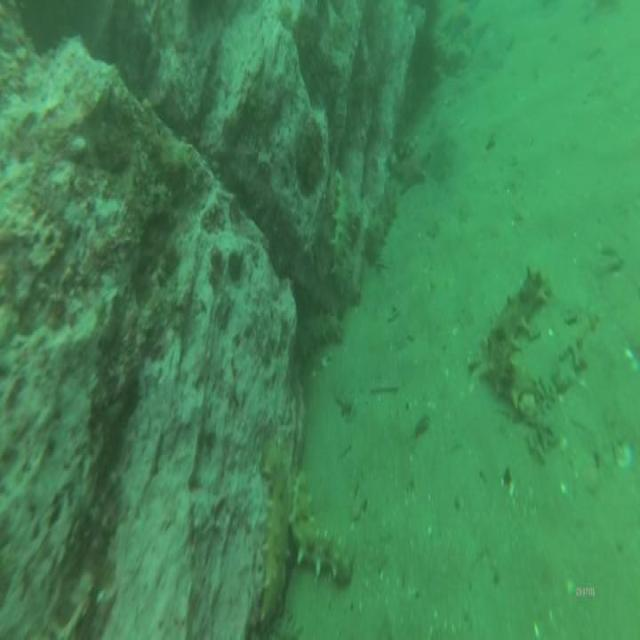holothurian: (485, 262, 552, 398), (288, 466, 355, 586), (256, 439, 292, 626), (363, 183, 399, 269), (294, 311, 348, 357), (332, 166, 354, 278)
starfish: (393, 141, 431, 194)
